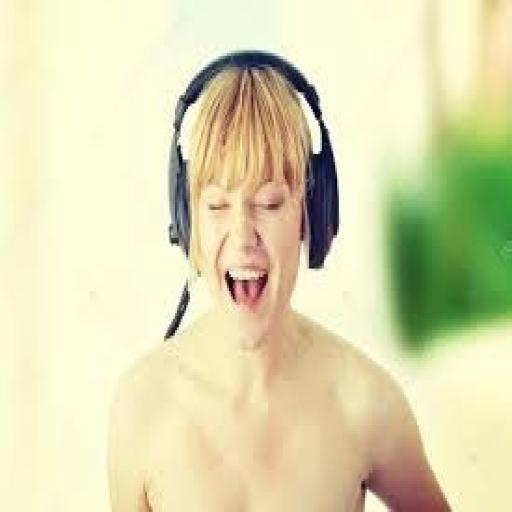listening_to_music: (104, 48, 456, 509)
